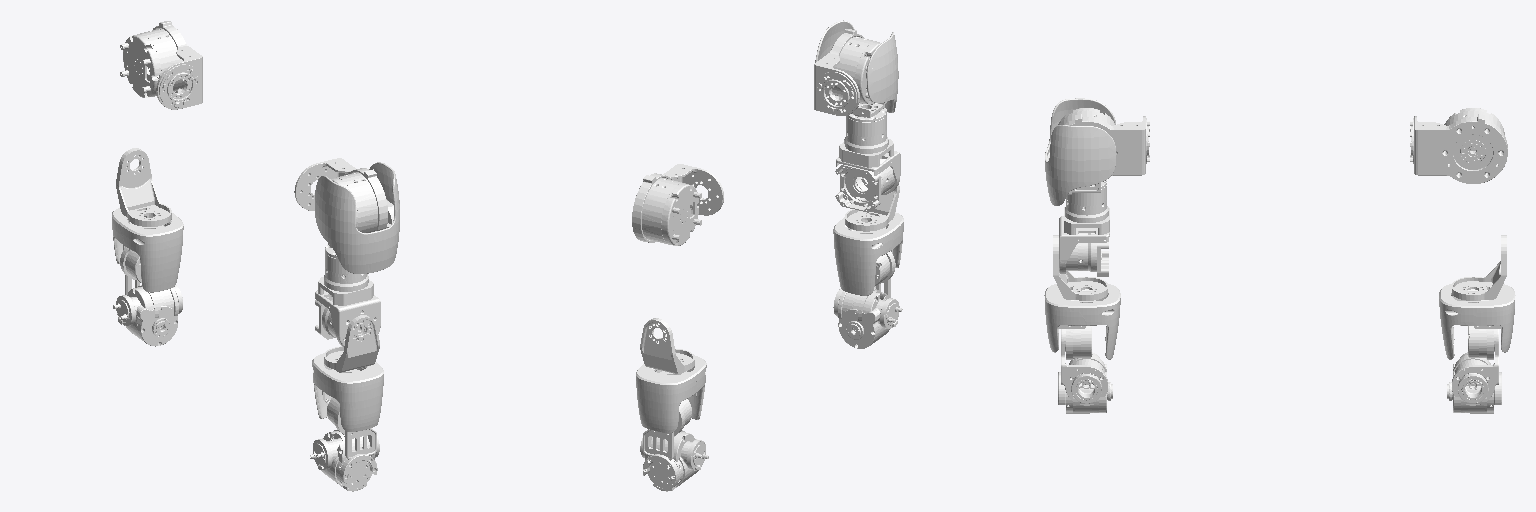
The robot description file, URDF, robot "biped_v3_arm":
<?xml version="1.0" ?>
<!-- =================================================================================== -->
<!-- |    This document was autogenerated by xacro from [local-path]/workspace/kuavo-ros-control/src/humanoid-control/humanoid_interface_drake/models/biped_gen4.2/urdf/biped_v3_arm.xacro | -->
<!-- |    EDITING THIS FILE BY HAND IS NOT RECOMMENDED                                 | -->
<!-- =================================================================================== -->
<robot name="biped_v3_arm" xmlns:drake="https://drake.mit.edu">
  <link name="torso">
    <inertial>
      <origin rpy="0 0 0" xyz="0.00383143 0.0 0.18350901"/>
      <mass value="30.6186395"/>
      <inertia ixx="0.95851611" ixy="0.00026968" ixz="0.06381351" iyy="0.83635568" iyz="0.00069789" izz="0.29474019"/>
    </inertial>
    <visual>
      <origin rpy="0 0 0" xyz="0 0 0"/>
      <geometry>
        <mesh filename="../../meshes/base_link.STL"/>
      </geometry>
      <material name="">
        <color rgba="0.43137 0.45098 0.43137 1"/>
      </material>
    </visual>
    <!-- <collision>
      <origin xyz="0 0 0" rpy="0 0 0" />
      <geometry>
        <mesh filename="../../meshes/base_link.STL" />
      </geometry>
    </collision> -->
  </link>
  <!-- =========================================================== Arms ================================================================= -->
  <link name="l_arm_pitch">
    <inertial>
      <origin rpy="0 0 0" xyz="0.0146835191418715 -0.0166604103758634 -6.82857133371129E-05"/>
      <mass value="0.794"/>
      <inertia ixx="0.0002674432873971" ixy="-2.5654089149164E-05" ixz="-1.72966133127553E-07" iyy="0.000125796784291983" iyz="-1.66717296343013E-06" izz="0.000196186976742156"/>
    </inertial>
    <visual>
      <origin rpy="0 0 0" xyz="0 0 0"/>
      <geometry>
        <mesh filename="../../meshes/l_arm_pitch.STL"/>
      </geometry>
      <material name="">
        <color rgba="1 1 1 1"/>
      </material>
    </visual>
  </link>
  <joint name="l_arm_pitch" type="continuous">
    <origin rpy="0 0 0" xyz="-0.0175475823124921 0.262700000000031 0.324500000000024"/>
    <parent link="torso"/>
    <child link="l_arm_pitch"/>
    <axis xyz="0 1 0"/>
    <limit effort="100" lower="-1.57" upper="1.57" velocity="35"/>
  </joint>
  <transmission type="SimpleTransmission">
    <joint name="l_arm_pitch"/>
    <actuator name="l_arm_pitch_motor"/>
  </transmission>
  <link name="l_arm_roll">
    <inertial>
      <origin rpy="0 0 0" xyz="0.0222872651779299 0.0156945544195473 -0.0202262244341484"/>
      <mass value="0.20735"/>
      <inertia ixx="0.000160370067223081" ixy="6.30811840859269E-06" ixz="-1.13259246453495E-05" iyy="0.000262365778589962" iyz="3.14941259087024E-05" izz="0.00023601403628197"/>
    </inertial>
    <visual>
      <origin rpy="0 0 0" xyz="0 0 0"/>
      <geometry>
        <mesh filename="../../meshes/l_arm_roll.STL"/>
      </geometry>
      <material name="">
        <color rgba="1 1 1 1"/>
      </material>
    </visual>
  </link>
  <joint name="l_arm_roll" type="continuous">
    <origin rpy="0 0 0" xyz="0 0 0"/>
    <parent link="l_arm_pitch"/>
    <child link="l_arm_roll"/>
    <axis xyz="1 0 0"/>
    <limit effort="100" lower="-1.57" upper="1.57" velocity="35"/>
  </joint>
  <transmission type="SimpleTransmission">
    <joint name="l_arm_roll"/>
    <actuator name="l_arm_roll_motor"/>
  </transmission>
  <link name="l_arm_yaw">
    <inertial>
      <origin rpy="0 0 0" xyz="6.16940440451783E-05 0.00525815062784063 -0.128821944854616"/>
      <mass value="1.120632"/>
      <inertia ixx="7.00575957554699E-05" ixy="-6.81658291272877E-10" ixz="2.69427050743199E-10" iyy="8.53612265336777E-05" iyz="6.95899873075699E-06" izz="8.82223899453285E-05"/>
    </inertial>
    <visual>
      <origin rpy="0 0 0" xyz="0 0 0"/>
      <geometry>
        <mesh filename="../../meshes/l_arm_yaw.STL"/>
      </geometry>
      <material name="">
        <color rgba="1 1 1 1"/>
      </material>
    </visual>
  </link>
  <joint name="l_arm_yaw" type="continuous">
    <origin rpy="0 0 0" xyz="0 0 0"/>
    <parent link="l_arm_roll"/>
    <child link="l_arm_yaw"/>
    <axis xyz="0 0 1"/>
    <limit effort="100" lower="-1.57" upper="1.57" velocity="35"/>
  </joint>
  <transmission type="SimpleTransmission">
    <joint name="l_arm_yaw"/>
    <actuator name="l_arm_yaw_motor"/>
  </transmission>
  <link name="l_forearm_pitch">
    <inertial>
      <origin rpy="0 0 0" xyz="-1.4281929799409E-05 0.00938313949959718 -0.0522687552263489"/>
      <mass value="0.395825"/>
      <inertia ixx="9.558084476069E-05" ixy="-4.53863490387433E-08" ixz="5.39342118513253E-08" iyy="0.000126326373178391" iyz="-9.58160032696958E-06" izz="0.000121032474884238"/>
    </inertial>
    <visual>
      <origin rpy="0 0 0" xyz="0 0 0"/>
      <geometry>
        <mesh filename="../../meshes/l_forearm_pitch.STL"/>
      </geometry>
      <material name="">
        <color rgba="1 1 1 1"/>
      </material>
    </visual>
  </link>
  <joint name="l_forearm_pitch" type="continuous">
    <origin rpy="0 0 0" xyz="0 0 -0.163599999999998"/>
    <parent link="l_arm_yaw"/>
    <child link="l_forearm_pitch"/>
    <axis xyz="0 1 0"/>
    <limit effort="100" lower="-1.57" upper="1.57" velocity="35"/>
  </joint>
  <transmission type="SimpleTransmission">
    <joint name="l_forearm_pitch"/>
    <actuator name="l_forearm_pitch_motor"/>
  </transmission>
  <link name="l_hand_yaw">
    <inertial>
      <origin rpy="0 0 0" xyz="0.000113133463122583 0.00969227839919062 0.0817960696431681"/>
      <mass value="0.380792"/>
      <inertia ixx="7.64923984145487E-05" ixy="8.51098127601464E-09" ixz="-1.4070355859132E-08" iyy="0.000122231132554914" iyz="1.11226968994633E-06" izz="8.44935061342021E-05"/>
    </inertial>
    <visual>
      <origin rpy="0 0 0" xyz="0 0 0"/>
      <geometry>
        <mesh filename="../../meshes/l_hand_yaw.STL"/>
      </geometry>
      <material name="">
        <color rgba="1 1 1 1"/>
      </material>
    </visual>
  </link>
  <joint name="l_hand_yaw" type="continuous">
    <origin rpy="0 0 0" xyz="0 0 -0.191049997298861"/>
    <parent link="l_forearm_pitch"/>
    <child link="l_hand_yaw"/>
    <axis xyz="0 0 1"/>
    <limit effort="100" lower="-1.57" upper="1.57" velocity="35"/>
  </joint>
  <transmission type="SimpleTransmission">
    <joint name="l_hand_yaw"/>
    <actuator name="l_hand_yaw_motor"/>
  </transmission>
  <link name="l_hand_pitch">
    <inertial>
      <origin rpy="0 0 0" xyz="0.00810609786663821 0.00489663150092601 0.00622488608908427"/>
      <mass value="0.376651"/>
      <inertia ixx="4.77321490368476E-05" ixy="3.05261917457107E-06" ixz="4.77827164947654E-06" iyy="3.43814769749139E-05" iyz="-4.59311499587155E-06" izz="2.49955336560135E-05"/>
    </inertial>
    <visual>
      <origin rpy="0 0 0" xyz="0 0 0"/>
      <geometry>
        <mesh filename="../../meshes/l_hand_pitch.STL"/>
      </geometry>
      <material name="">
        <color rgba="1 1 1 1"/>
      </material>
    </visual>
  </link>
  <joint name="l_hand_pitch" type="continuous">
    <origin rpy="0 0 0" xyz="0 0 0"/>
    <parent link="l_hand_yaw"/>
    <child link="l_hand_pitch"/>
    <axis xyz="0 1 0"/>
    <limit effort="100" lower="-1.57" upper="1.57" velocity="35"/>
  </joint>
  <transmission type="SimpleTransmission">
    <joint name="l_hand_pitch"/>
    <actuator name="l_hand_pitch_motor"/>
  </transmission>
  <link name="l_hand_roll">
    <inertial>
      <origin rpy="0 0 0" xyz="0.0055750097939089 0.00647363667890594 -0.0826245715087526"/>
      <mass value="0.704669"/>
      <inertia ixx="8.04371746531483E-05" ixy="2.770174858381E-07" ixz="-4.63354764745673E-06" iyy="0.000116536814280971" iyz="1.04534418501281E-05" izz="0.000111690600253046"/>
    </inertial>
    <visual>
      <origin rpy="0 0 0" xyz="0 0 0"/>
      <geometry>
        <mesh filename="../../meshes/l_hand_roll.STL"/>
      </geometry>
      <material name="">
        <color rgba="1 1 1 1"/>
      </material>
    </visual>
  </link>
  <joint name="l_hand_roll" type="continuous">
    <origin rpy="0 0 0" xyz="0 0 0"/>
    <parent link="l_hand_pitch"/>
    <child link="l_hand_roll"/>
    <axis xyz="1 0 0"/>
    <limit effort="100" lower="-1.57" upper="1.57" velocity="35"/>
  </joint>
  <transmission type="SimpleTransmission">
    <joint name="l_hand_roll"/>
    <actuator name="l_hand_roll_motor"/>
  </transmission>
  <!-- right arm -->
  <link name="r_arm_pitch">
    <inertial>
      <origin rpy="0 0 0" xyz="0.0146743511434554 0.0168298008224051 -8.16711977456031E-05"/>
      <mass value="0.794"/>
      <inertia ixx="0.000267364314112701" ixy="2.58822573731612E-05" ixz="-1.74450019197634E-07" iyy="0.000125724274127356" iyz="1.71810516637517E-06" izz="0.000196179895851995"/>
    </inertial>
    <visual>
      <origin rpy="0 0 0" xyz="0 0 0"/>
      <geometry>
        <mesh filename="../../meshes/r_arm_pitch.STL"/>
      </geometry>
      <material name="">
        <color rgba="1 1 1 1"/>
      </material>
    </visual>
  </link>
  <joint name="r_arm_pitch" type="continuous">
    <origin rpy="0 0 0" xyz="-0.0175475823119764 -0.262700000000031 0.324500000000024"/>
    <parent link="torso"/>
    <child link="r_arm_pitch"/>
    <axis xyz="0 1 0"/>
    <limit effort="100" lower="-1.57" upper="1.57" velocity="35"/>
  </joint>
  <transmission type="SimpleTransmission">
    <joint name="r_arm_pitch"/>
    <actuator name="r_arm_pitch_motor"/>
  </transmission>
  <link name="r_arm_roll">
    <inertial>
      <origin rpy="0 0 0" xyz="0.0223009070030529 -0.0156950170482436 -0.0202307747650334"/>
      <mass value="0.20735"/>
      <inertia ixx="0.00016058853411588" ixy="-6.25733649402466E-06" ixz="-1.13236198708706E-05" iyy="0.000262566981542989" iyz="-3.14930415013909E-05" izz="0.000236151535262186"/>
    </inertial>
    <visual>
      <origin rpy="0 0 0" xyz="0 0 0"/>
      <geometry>
        <mesh filename="../../meshes/r_arm_roll.STL"/>
      </geometry>
      <material name="">
        <color rgba="1 1 1 1"/>
      </material>
    </visual>
  </link>
  <joint name="r_arm_roll" type="continuous">
    <origin rpy="0 0 0" xyz="0 0 0"/>
    <parent link="r_arm_pitch"/>
    <child link="r_arm_roll"/>
    <axis xyz="1 0 0"/>
    <limit effort="100" lower="-1.57" upper="1.57" velocity="35"/>
  </joint>
  <transmission type="SimpleTransmission">
    <joint name="r_arm_roll"/>
    <actuator name="r_arm_roll_motor"/>
  </transmission>
  <link name="r_arm_yaw">
    <inertial>
      <origin rpy="0 0 0" xyz="-4.82749435400213E-05 -0.0052581506278393 -0.128821944854617"/>
      <mass value="1.120632"/>
      <inertia ixx="7.00575957554697E-05" ixy="-6.81658260938682E-10" ixz="-2.69427064597612E-10" iyy="8.53612265336775E-05" iyz="-6.95899873075696E-06" izz="8.82223899453284E-05"/>
    </inertial>
    <visual>
      <origin rpy="0 0 0" xyz="0 0 0"/>
      <geometry>
        <mesh filename="../../meshes/r_arm_yaw.STL"/>
      </geometry>
      <material name="">
        <color rgba="1 1 1 1"/>
      </material>
    </visual>
  </link>
  <joint name="r_arm_yaw" type="continuous">
    <origin rpy="0 0 0" xyz="0 0 0"/>
    <parent link="r_arm_roll"/>
    <child link="r_arm_yaw"/>
    <axis xyz="0 0 1"/>
    <limit effort="100" lower="-1.57" upper="1.57" velocity="35"/>
  </joint>
  <transmission type="SimpleTransmission">
    <joint name="r_arm_yaw"/>
    <actuator name="r_arm_yaw_motor"/>
  </transmission>
  <link name="r_forearm_pitch">
    <inertial>
      <origin rpy="0 0 0" xyz="-0.000127232990745116 -0.00951602649232586 -0.0522687552263488"/>
      <mass value="0.395825"/>
      <inertia ixx="9.55808447606916E-05" ixy="-4.53863489774233E-08" ixz="-5.41060583443891E-08" iyy="0.000126326373178394" iyz="9.40982665987077E-06" izz="0.00012103247488424"/>
    </inertial>
    <visual>
      <origin rpy="0 0 0" xyz="0 0 0"/>
      <geometry>
        <mesh filename="../../meshes/r_forearm_pitch.STL"/>
      </geometry>
      <material name="">
        <color rgba="1 1 1 1"/>
      </material>
    </visual>
  </link>
  <joint name="r_forearm_pitch" type="continuous">
    <origin rpy="0 0 0" xyz="0 0 -0.1636"/>
    <parent link="r_arm_yaw"/>
    <child link="r_forearm_pitch"/>
    <axis xyz="0 1 0"/>
    <limit effort="100" lower="-1.57" upper="1.57" velocity="35"/>
  </joint>
  <transmission type="SimpleTransmission">
    <joint name="r_forearm_pitch"/>
    <actuator name="r_forearm_pitch_motor"/>
  </transmission>
  <link name="r_hand_yaw">
    <inertial>
      <origin rpy="0 0 0" xyz="-0.000113133331993445 -0.0097448351680483 0.0817960724173413"/>
      <mass value="0.380792"/>
      <inertia ixx="7.64923982725728E-05" ixy="8.51115986496426E-09" ixz="1.40703608309957E-08" iyy="0.000122231132626729" iyz="-1.11226978982942E-06" izz="8.44935061081861E-05"/>
    </inertial>
    <visual>
      <origin rpy="0 0 0" xyz="0 0 0"/>
      <geometry>
        <mesh filename="../../meshes/r_hand_yaw.STL"/>
      </geometry>
      <material name="">
        <color rgba="1 1 1 1"/>
      </material>
    </visual>
  </link>
  <joint name="r_hand_yaw" type="continuous">
    <origin rpy="0 0 0" xyz="0 0 -0.191050000125729"/>
    <parent link="r_forearm_pitch"/>
    <child link="r_hand_yaw"/>
    <axis xyz="0 0 1"/>
    <limit effort="100" lower="-1.57" upper="1.57" velocity="35"/>
  </joint>
  <transmission type="SimpleTransmission">
    <joint name="r_hand_yaw"/>
    <actuator name="r_hand_yaw_motor"/>
  </transmission>
  <link name="r_hand_pitch">
    <inertial>
      <origin rpy="0 0 0" xyz="0.00735986990228184 -0.0047523802551166 0.00605888061339196"/>
      <mass value="0.376651"/>
      <inertia ixx="4.77321358097824E-05" ixy="-2.99709432812988E-06" ixz="4.71488437974188E-06" iyy="3.42470226388499E-05" iyz="4.61094199971347E-06" izz="2.51299600072388E-05"/>
    </inertial>
    <visual>
      <origin rpy="0 0 0" xyz="0 0 0"/>
      <geometry>
        <mesh filename="../../meshes/r_hand_pitch.STL"/>
      </geometry>
      <material name="">
        <color rgba="1 1 1 1"/>
      </material>
    </visual>
  </link>
  <joint name="r_hand_pitch" type="continuous">
    <origin rpy="0 0 0" xyz="0 0 0"/>
    <parent link="r_hand_yaw"/>
    <child link="r_hand_pitch"/>
    <axis xyz="0 1 0"/>
    <limit effort="100" lower="-1.57" upper="1.57" velocity="35"/>
  </joint>
  <transmission type="SimpleTransmission">
    <joint name="r_hand_pitch"/>
    <actuator name="r_hand_pitch_motor"/>
  </transmission>
  <link name="r_hand_roll">
    <inertial>
      <origin rpy="0 0 0" xyz="0.0045944493552252 -0.00586927010446042 -0.0836324643988434"/>
      <mass value="0.704669"/>
      <inertia ixx="0.000160651543151659" ixy="-5.37963063503334E-07" ixz="-9.47669219939636E-06" iyy="0.000229393712149694" iyz="-2.08351527945055E-05" izz="0.000219277776699058"/>
    </inertial>
    <visual>
      <origin rpy="0 0 0" xyz="0 0 0"/>
      <geometry>
        <mesh filename="../../meshes/r_hand_roll.STL"/>
      </geometry>
      <material name="">
        <color rgba="1 1 1 1"/>
      </material>
    </visual>
  </link>
  <joint name="r_hand_roll" type="continuous">
    <origin rpy="0 0 0" xyz="0 0 0"/>
    <parent link="r_hand_pitch"/>
    <child link="r_hand_roll"/>
    <axis xyz="1 0 0"/>
    <limit effort="100" lower="-1.57" upper="1.57" velocity="35"/>
  </joint>
  <transmission type="SimpleTransmission">
    <joint name="r_hand_roll"/>
    <actuator name="r_hand_roll_motor"/>
  </transmission>
  <!-- end frame -->
  <!-- <frame link="l_hand_pitch" name="l_hand_sole" xyz="0 0 -0.1" /> -->
  <!-- end frame -->
  <!-- <frame link="r_hand_pitch" name="r_hand_sole" xyz="0 0 -0.1" /> -->
</robot>

--- Render facts (derived) ---
The picture shows the robot from 3 angles, left to right: view 1: azimuth 30°, elevation 25°; view 2: azimuth 150°, elevation 25°; view 3: azimuth 270°, elevation 25°; orthographic projection.
Robot: biped_v3_arm — 15 links, 14 joints (14 continuous); root link torso; default pose: all joints at 0.
Links seen in each view (by area): view 1: r_arm_roll, l_arm_pitch, l_hand_yaw, r_hand_yaw, r_arm_yaw, r_arm_pitch, l_forearm_pitch, l_hand_roll, r_hand_roll, r_forearm_pitch, r_hand_pitch, l_hand_pitch; view 2: l_arm_pitch, r_arm_yaw, r_hand_yaw, l_hand_yaw, r_arm_pitch, r_arm_roll, r_hand_roll, l_hand_roll, l_forearm_pitch, r_forearm_pitch, l_hand_pitch, r_hand_pitch; view 3: l_arm_pitch, r_arm_roll, r_arm_yaw, l_hand_yaw, r_hand_yaw, r_arm_pitch, r_hand_roll, l_hand_roll, l_forearm_pitch, r_forearm_pitch, l_hand_pitch, r_hand_pitch.
Boxes of the visible links, x1,y1,x2,y2 form: r_arm_roll: (315,162,399,273); l_arm_pitch: (120,21,202,109); l_hand_yaw: (112,208,183,292); r_hand_yaw: (312,353,383,434); r_arm_yaw: (315,245,380,346); r_arm_pitch: (294,158,387,232); l_forearm_pitch: (116,148,171,226); l_hand_roll: (113,285,182,346); r_hand_roll: (310,436,379,491); r_forearm_pitch: (324,315,379,372); r_hand_pitch: (323,428,376,462); l_hand_pitch: (125,275,178,317); l_arm_pitch: (632,164,723,245); r_arm_yaw: (835,108,900,212); r_hand_yaw: (833,212,903,295); l_hand_yaw: (636,355,706,435); r_arm_pitch: (814,29,880,115); r_arm_roll: (815,20,898,117); r_hand_roll: (833,289,902,348); l_hand_roll: (640,438,708,491); l_forearm_pitch: (640,318,694,374); r_forearm_pitch: (845,185,899,231); l_hand_pitch: (643,429,694,461); r_hand_pitch: (838,278,890,320); l_arm_pitch: (1410,108,1507,183); r_arm_roll: (1045,98,1115,205); r_arm_yaw: (1059,180,1109,276); l_hand_yaw: (1439,284,1515,359); r_hand_yaw: (1044,284,1120,359); r_arm_pitch: (1058,108,1149,175); r_hand_roll: (1058,352,1112,413); l_hand_roll: (1447,352,1501,413); l_forearm_pitch: (1452,235,1506,300); r_forearm_pitch: (1053,235,1107,300); l_hand_pitch: (1452,329,1498,405); r_hand_pitch: (1061,329,1107,405).
Size in the robot's own frame: 0.1186 by 0.6404 by 0.4572 metres.
Meshes: 15 distinct files referenced, 12 mesh visuals loaded (12 binary STL); not drawn: 3 (reference not matched to a file when rendering).